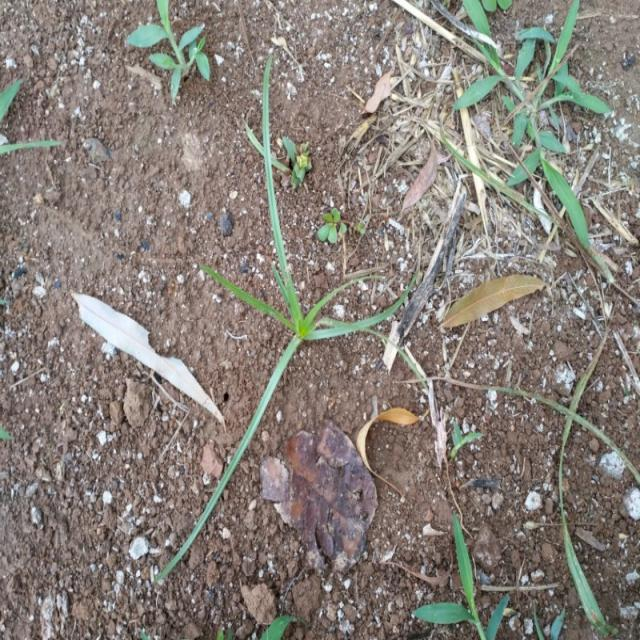sedge: (157, 122, 462, 517)
